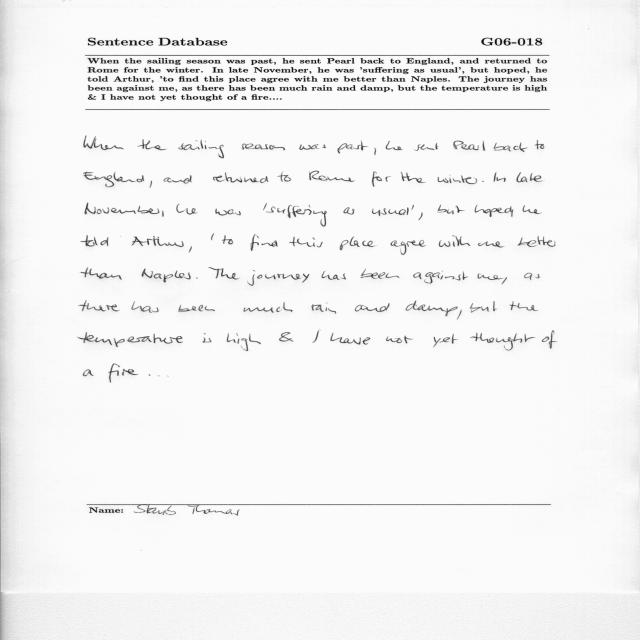word: (78, 332, 183, 347), (266, 203, 327, 226), (470, 333, 535, 351), (406, 301, 462, 320), (248, 270, 309, 286), (84, 172, 144, 187), (178, 140, 224, 158), (85, 203, 159, 214), (414, 271, 469, 284), (142, 269, 191, 283), (227, 333, 261, 351), (213, 172, 268, 183), (131, 236, 184, 247), (109, 364, 139, 383), (84, 136, 123, 150), (244, 302, 293, 313), (81, 267, 122, 280), (391, 240, 426, 255), (309, 171, 355, 182), (330, 333, 370, 345), (475, 205, 514, 217), (251, 234, 278, 251), (340, 237, 375, 250), (80, 301, 119, 312), (518, 236, 556, 247), (337, 141, 368, 154), (209, 267, 240, 280), (361, 269, 400, 279), (439, 235, 471, 247), (131, 301, 159, 313), (137, 140, 167, 151), (290, 237, 323, 247), (433, 334, 458, 347), (81, 235, 108, 247), (453, 141, 485, 151), (355, 303, 390, 312), (438, 176, 477, 184), (241, 144, 285, 151), (494, 143, 528, 152), (477, 274, 507, 284), (372, 208, 409, 216), (372, 172, 391, 187), (510, 301, 538, 311), (401, 172, 426, 183), (311, 303, 336, 314), (542, 331, 557, 349), (516, 173, 542, 183), (178, 305, 215, 312), (438, 205, 465, 214), (321, 271, 346, 280), (164, 175, 192, 183), (177, 204, 198, 214), (414, 143, 439, 151), (386, 336, 413, 343), (478, 241, 504, 248), (522, 205, 542, 214), (481, 301, 497, 312), (299, 144, 326, 150), (215, 209, 241, 215), (386, 141, 403, 150), (279, 332, 293, 342), (278, 172, 291, 182), (494, 172, 506, 182), (470, 303, 481, 313), (535, 140, 545, 150), (222, 236, 233, 245), (343, 207, 355, 215), (203, 333, 212, 343), (312, 331, 319, 343), (83, 370, 94, 377), (524, 273, 532, 280), (419, 213, 423, 221), (263, 205, 267, 211), (189, 247, 192, 253), (211, 234, 214, 240), (536, 274, 540, 278), (411, 205, 414, 210), (374, 148, 376, 155), (150, 181, 152, 188), (162, 211, 164, 217), (196, 277, 198, 279), (149, 374, 151, 376), (482, 181, 484, 182)
